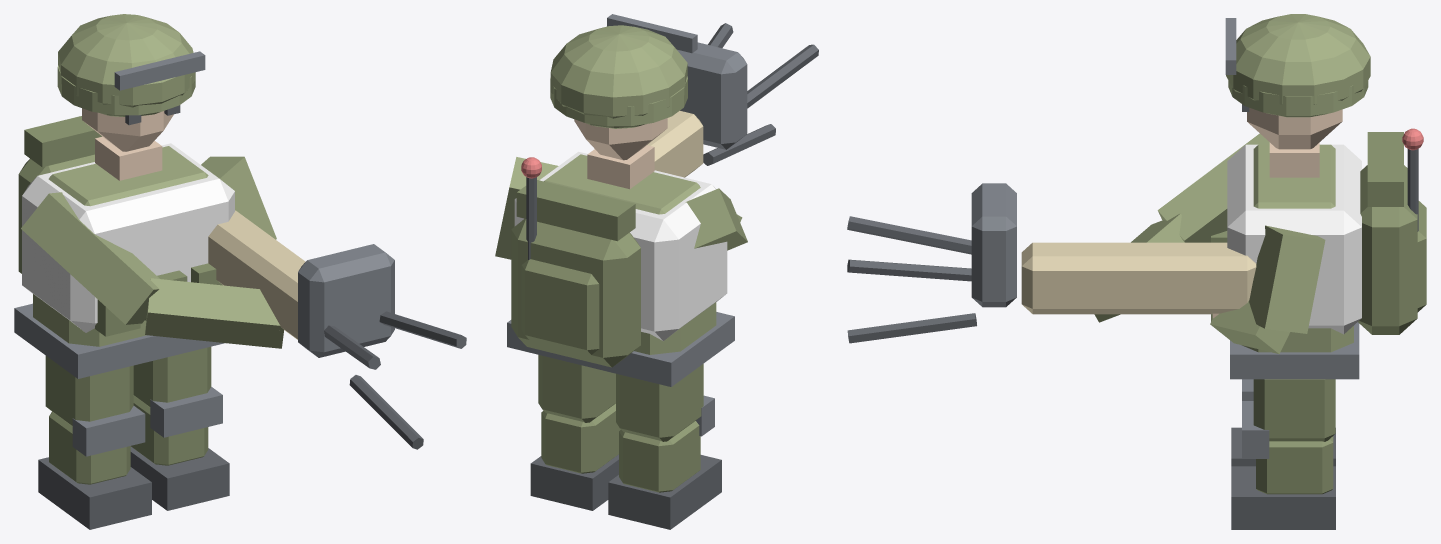
File: antidrone.glb
3 views of the same model, side by side, from view 1: azimuth 30°, elevation 25°; view 2: azimuth 150°, elevation 25°; view 3: azimuth 270°, elevation 25° (orthographic).
Visible parts, largest first — view 1: main, shinl, shinr, legl, legr; view 2: main, shinl, shinr, legl, legr; view 3: main, shinr, legr, shinl.
Part boxes in pixels (x1=…): main: x1=14, y1=14, x2=466, y2=449; shinl: x1=38, y1=406, x2=151, y2=529; shinr: x1=130, y1=387, x2=229, y2=510; legl: x1=45, y1=356, x2=133, y2=426; legr: x1=133, y1=346, x2=211, y2=406; main: x1=495, y1=14, x2=818, y2=386; shinl: x1=608, y1=395, x2=721, y2=529; shinr: x1=530, y1=403, x2=620, y2=510; legl: x1=616, y1=364, x2=703, y2=441; legr: x1=538, y1=355, x2=615, y2=422; main: x1=847, y1=14, x2=1426, y2=379; shinr: x1=1231, y1=401, x2=1335, y2=529; legr: x1=1253, y1=379, x2=1335, y2=441; shinl: x1=1231, y1=379, x2=1335, y2=466.
Size of the model in its own units: 0.3161 by 0.5733 by 0.6365.
